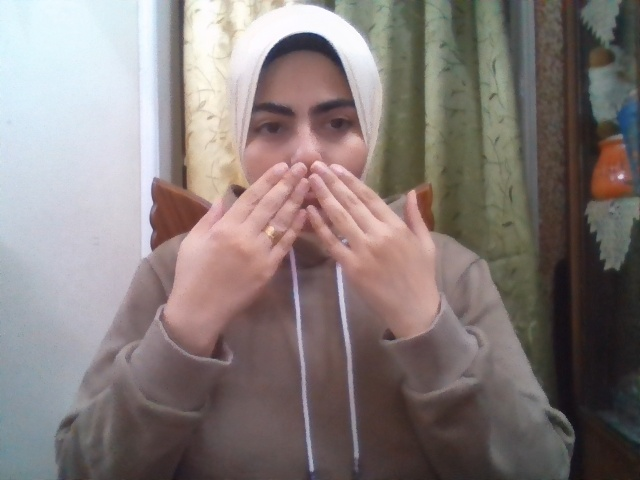thanks: (165, 162, 438, 327)
